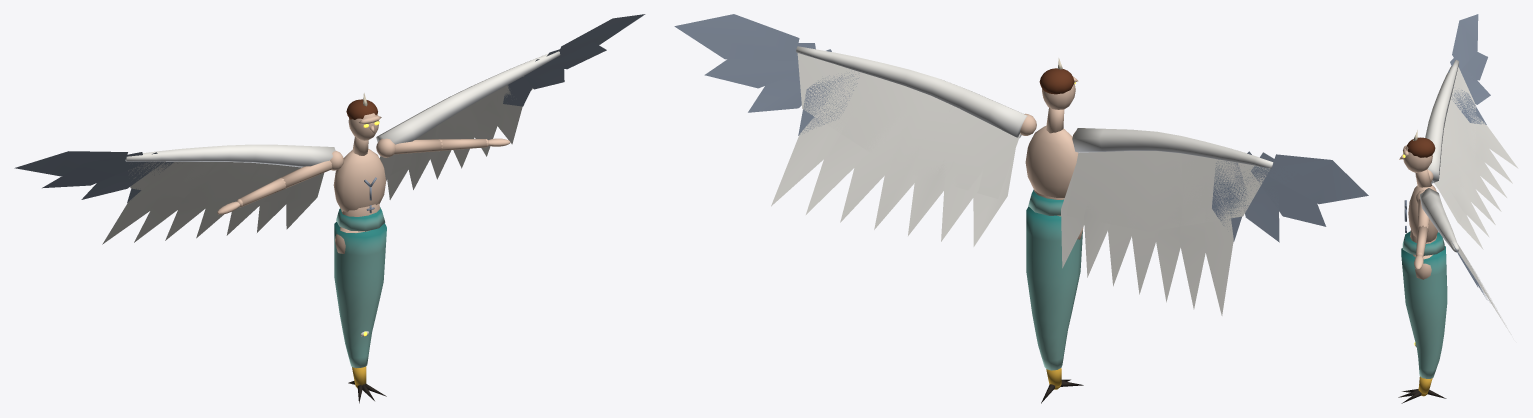
Rendered from sirena.glb.
3 views of the same model, side by side, from view 1: azimuth 30°, elevation 25°; view 2: azimuth 150°, elevation 25°; view 3: azimuth 270°, elevation 25° (orthographic). The views are drawn at different scales.
Parts seen in each view (by area): view 1: upperarm_R, upperarm_L, thigh_L, torso, head, forearm_R; view 2: upperarm_L, upperarm_R, thigh_L, torso, head; view 3: upperarm_R, thigh_L, upperarm_L, torso, head, shin_L, forearm_L, pelvis.
Part boxes in pixels (x1,y1,x2,y2): upperarm_R: (14, 144, 343, 244); upperarm_L: (376, 14, 645, 199); thigh_L: (334, 221, 386, 367); torso: (333, 137, 385, 231); head: (346, 93, 381, 140); forearm_R: (237, 177, 285, 207); upperarm_L: (674, 14, 1036, 246); upperarm_R: (1061, 128, 1368, 315); thigh_L: (1026, 206, 1082, 370); torso: (1025, 107, 1078, 215); head: (1039, 58, 1078, 109); upperarm_R: (1415, 14, 1518, 249); thigh_L: (1401, 246, 1447, 378); upperarm_L: (1415, 188, 1511, 334); torso: (1402, 169, 1444, 255); head: (1399, 130, 1435, 172); shin_L: (1398, 376, 1446, 403); forearm_L: (1416, 225, 1428, 256); pelvis: (1413, 254, 1432, 279).
Size of the model in its own units: 4.41 by 2.02 by 0.8281.
